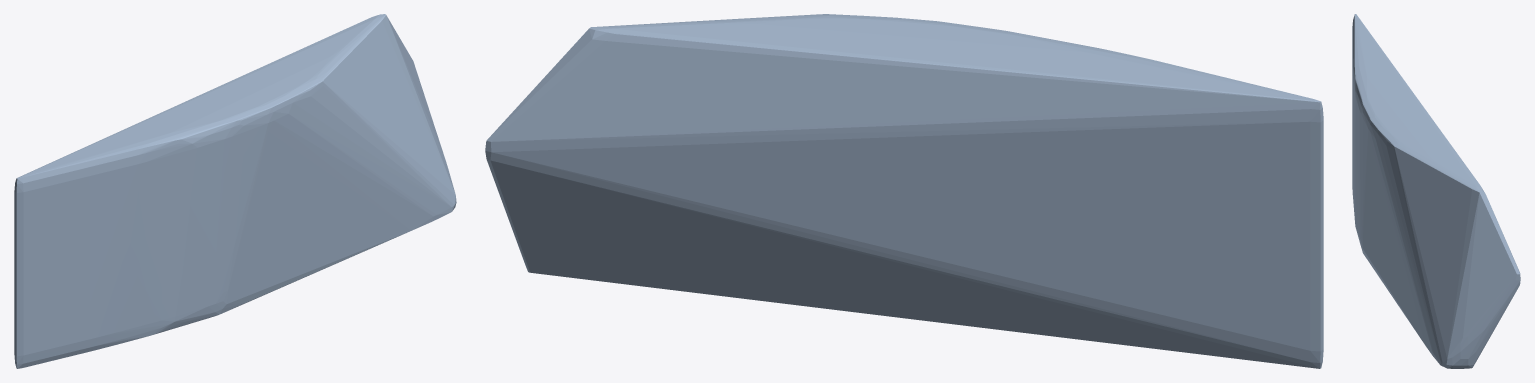
Rendered from left-elbow-0_part_6.obj.
3 renders of one model, left to right at view 1: azimuth 30°, elevation 25°; view 2: azimuth 150°, elevation 25°; view 3: azimuth 270°, elevation 25°, orthographic. The views are drawn at different scales.
Size of the model in its own units: 0.0553 by 0.0204 by 0.0196.
